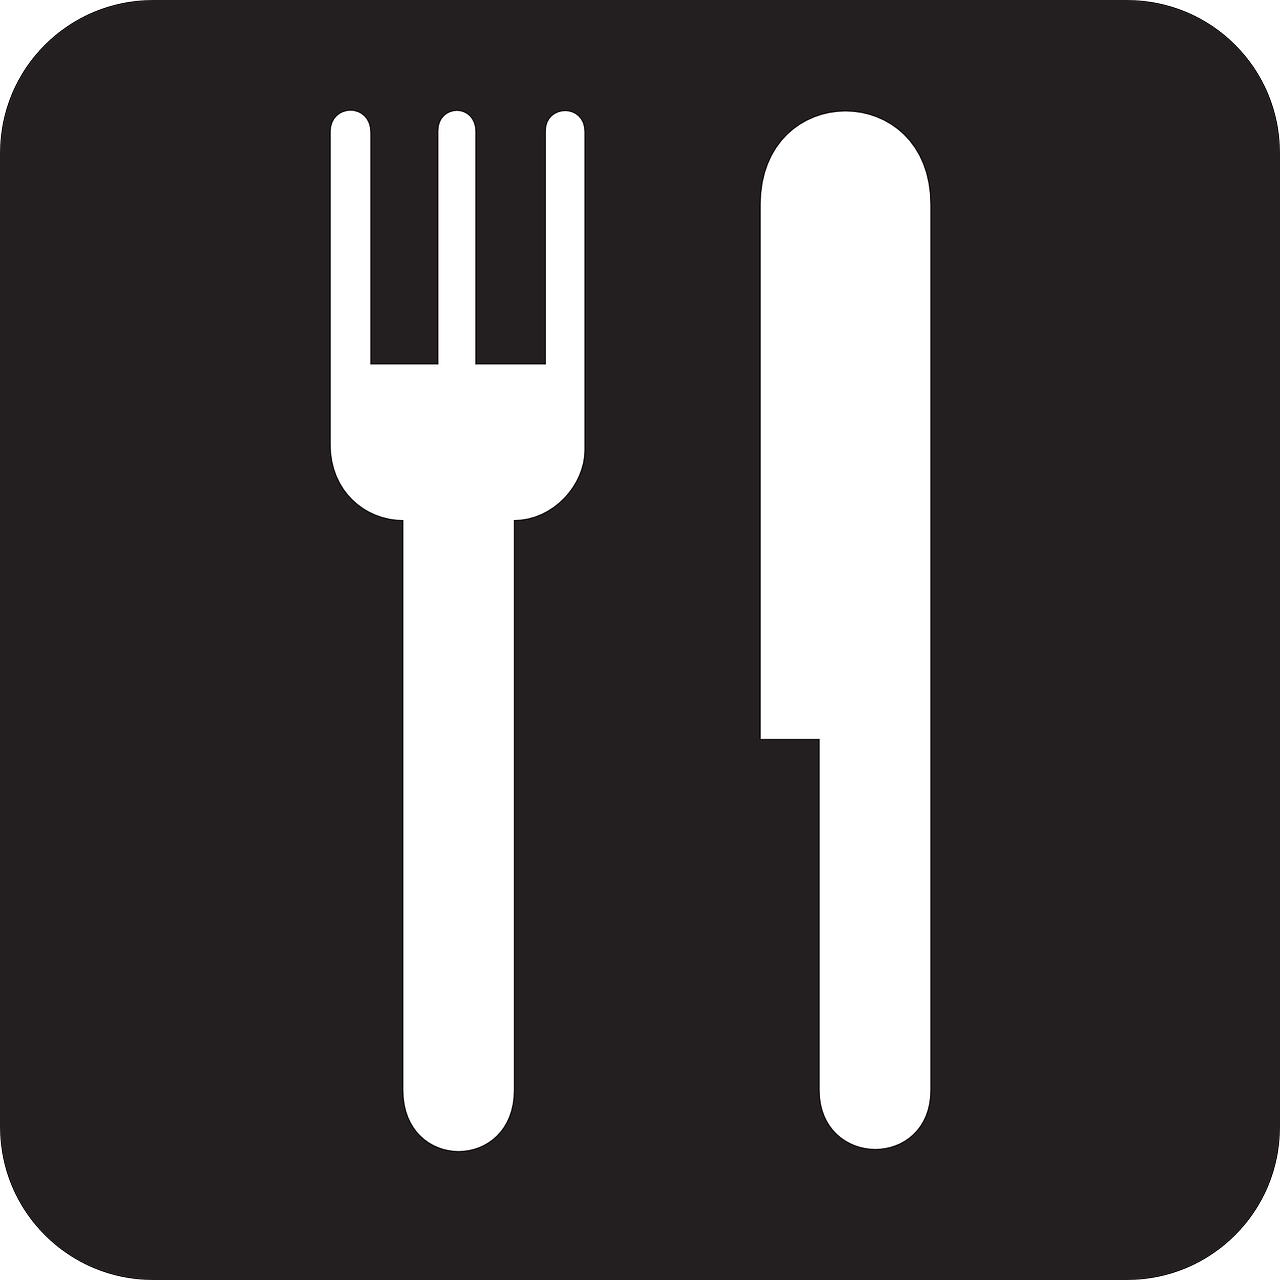knife: (753, 108, 940, 1152)
